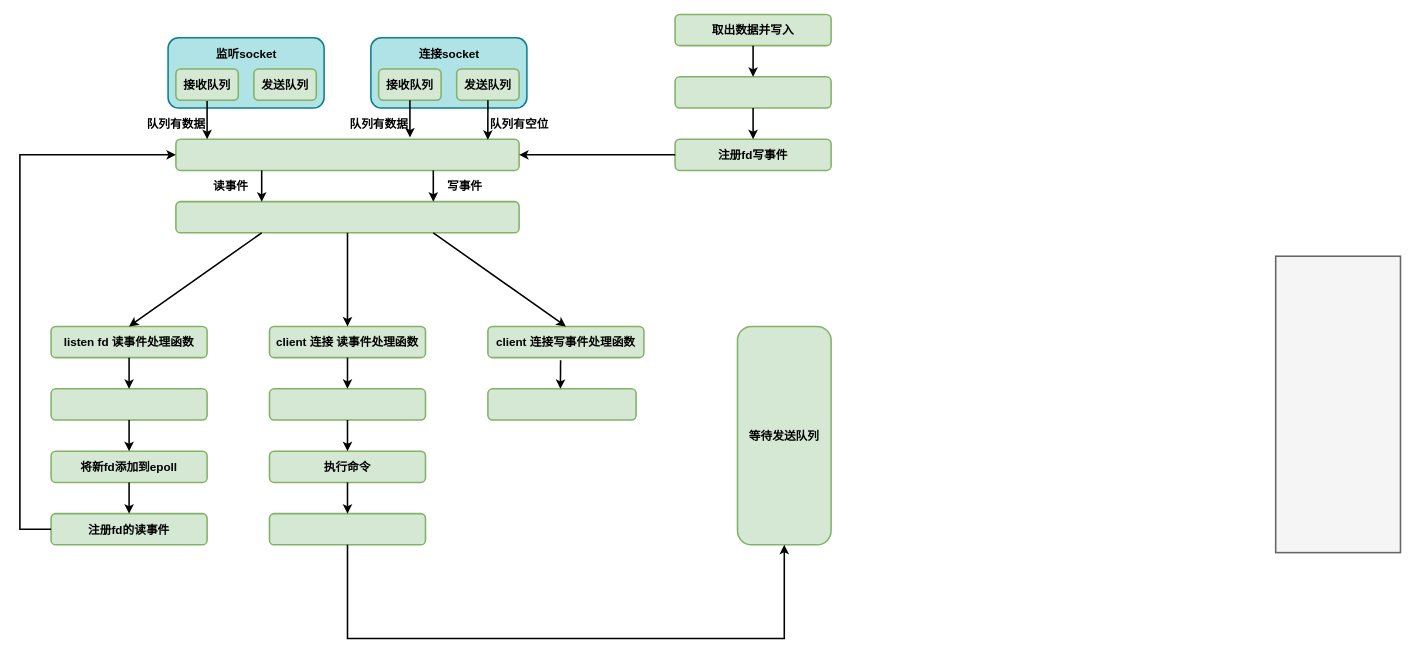
The diagram is 1414 pixels wide and 658 high, and some of its shapes have lost their labels. The shapes that lost their labels are listed below. From the top down, each one's box as (x1, y1, x2, y2) in pixels, then its label:
(674, 76, 831, 108): 写不下了就加回队列
(175, 138, 519, 171): epoll
(50, 388, 207, 420): accept获取连接fd
(268, 388, 426, 420): 解析命令
(487, 388, 636, 420): 缓冲输出到fd
(268, 512, 426, 545): 输出添加到缓冲并加入队列
